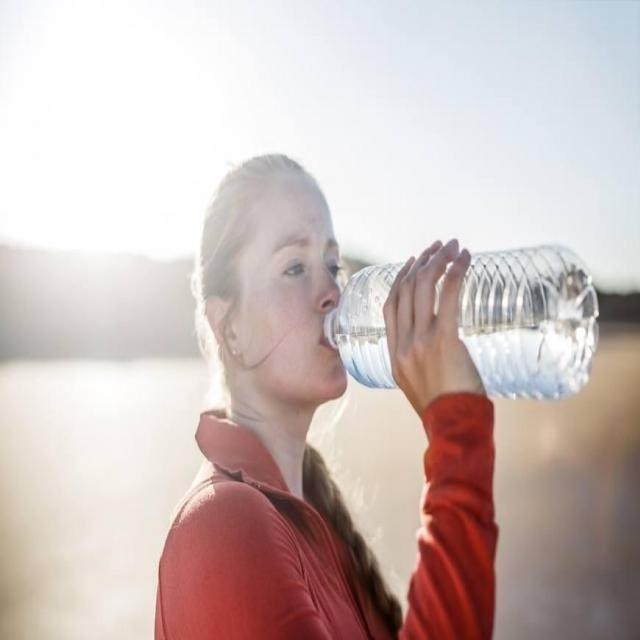bottle-plastic: (324, 233, 599, 413)
